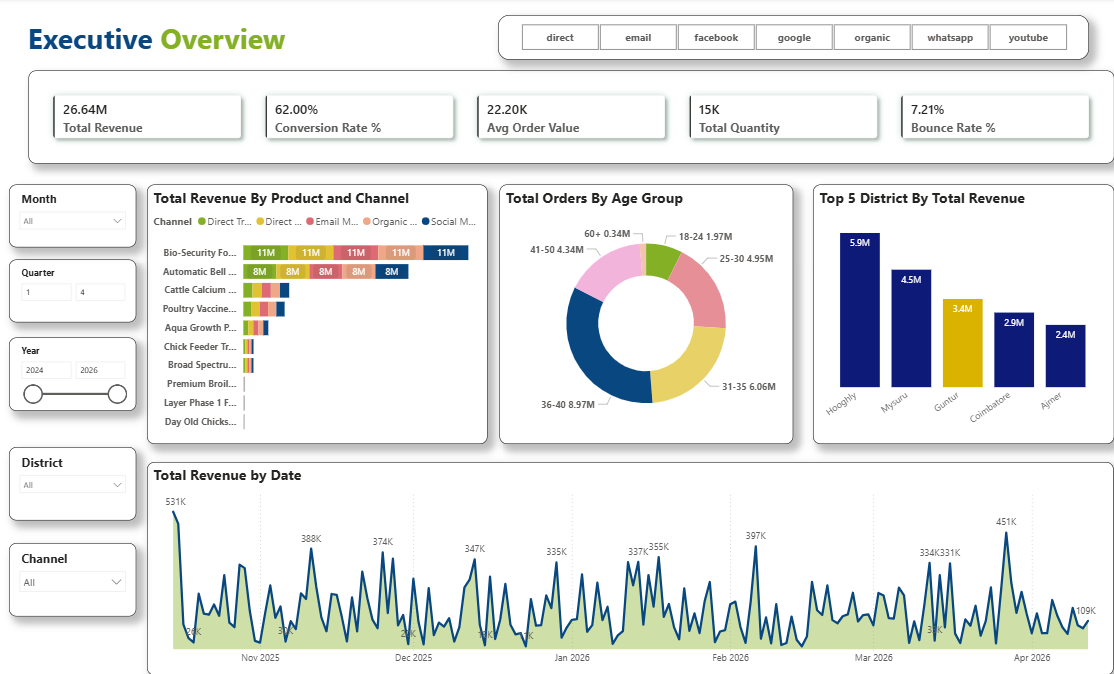

What the dashboard file says about the page in this screenshot:
{"tool":"powerbi","page":{"name":"Overview","canvas":[1500,900],"ordinal":0},"visuals":[{"type":"cardVisual","fields":{"Data":["All Measures.Total Sales","All Measures.Conversion Rate","All Measures.Avg Order Value","All Measures.Total Quantity","All Measures.Bounce Rate %"]},"box":[37.8,97.4,1439.5,123.3],"z":0},{"type":"textbox","box":[31.8,23.9,559.9,74.8],"z":1000},{"type":"barChart","title":"Total Revenue By Product and Channel","fields":{"Series":["dim_utm_metadata.channel_grouping"],"Category":["dim_products.product_name"],"Y":["All Measures.Total Revenue"]},"box":[194.8,248.5,451.3,344],"z":2000},{"type":"lineChart","title":"Total Revenue by Date","fields":{"Category":["dim_calendar.month_name","dim_calendar.year","dim_calendar.Date"],"Y":["All Measures.Total Revenue"]},"box":[194.6,617.1,1281.6,282.4],"z":3000},{"type":"donutChart","title":"Total Orders By Age Group","fields":{"Y":["All Measures.Total Revenue"],"Series":["dim_customers.age_group"]},"box":[662.2,249.2,389.2,344.1],"z":4000},{"type":"clusteredColumnChart","title":"Top 5 District By Total Revenue","fields":{"Category":["dim_geospatial_market.district"],"Y":["All Measures.Total Revenue"]},"box":[1077.6,248.5,399.6,344],"z":5000},{"type":"slicer","fields":{"Values":["dim_calendar.year"]},"box":[11.9,450.9,168.5,97.3],"z":6000},{"type":"slicer","fields":{"Values":["dim_calendar.quarter"]},"box":[11.9,348.9,168.5,83.1],"z":7000},{"type":"slicer","fields":{"Values":["dim_geospatial_market.district"]},"box":[11.9,595.7,168.5,97.3],"z":8000},{"type":"slicer","fields":{"Values":["dim_calendar.month_name"]},"box":[11.9,249.2,168.5,83.1],"z":9000},{"type":"slicer","fields":{"Values":["dim_utm_metadata.channel_grouping"]},"box":[11.9,723.9,168.5,97.3],"z":10000},{"type":"slicer","fields":{"Values":["dim_utm_metadata.Source"]},"box":[660.1,23.9,783.4,59.6],"z":11000}]}

Visuals, with their boxes in screenshot pixels (x1, y1, x2, y2), scaled from the page's 1500x900 canvas onto the 1114x674 screenshot:
cardVisual - All Measures.Total Sales x All Measures.Conversion Rate: 28/73/1097/165
textbox: 24/18/439/74
"Total Revenue By Product and Channel" barChart: 145/186/480/444
"Total Revenue by Date" lineChart: 145/462/1096/673
"Total Orders By Age Group" donutChart: 492/187/781/444
"Top 5 District By Total Revenue" clusteredColumnChart: 800/186/1097/444
slicer - dim_calendar.year: 9/338/134/411
slicer - dim_calendar.quarter: 9/261/134/324
slicer - dim_geospatial_market.district: 9/446/134/519
slicer - dim_calendar.month_name: 9/187/134/249
slicer - dim_utm_metadata.channel_grouping: 9/542/134/615
slicer - dim_utm_metadata.Source: 490/18/1072/63
